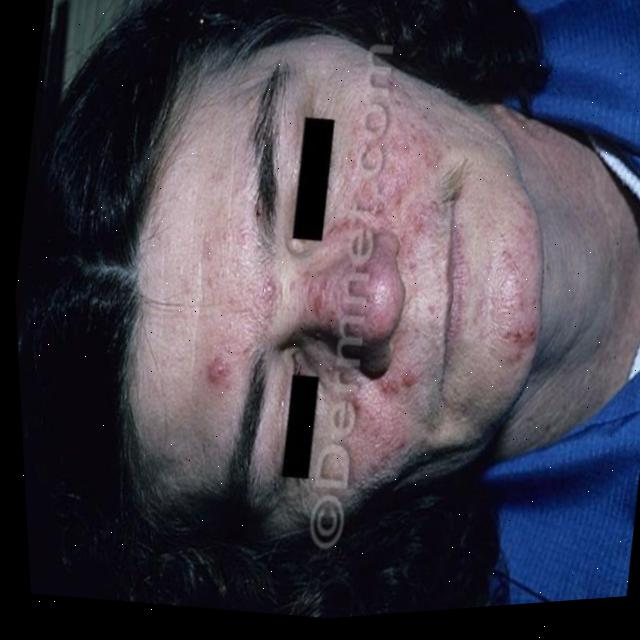Rosacea: (332, 93, 474, 464), (472, 199, 550, 360), (195, 344, 241, 394), (303, 280, 324, 317)
